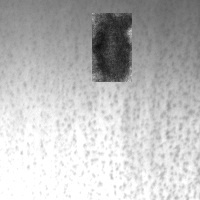patches: (92, 13, 132, 82)
pitted_surface: (12, 8, 198, 198)
